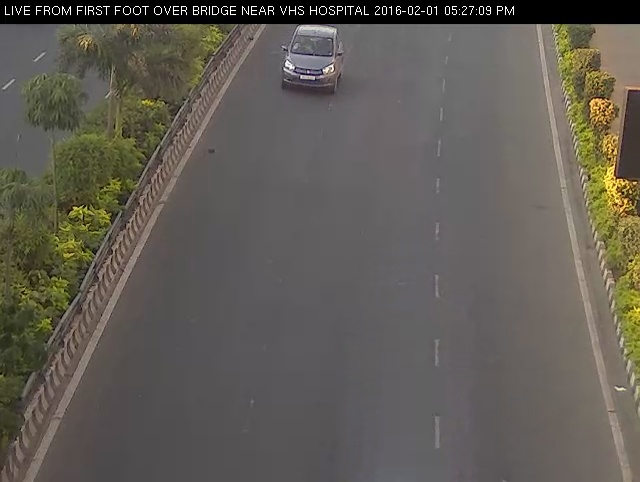Car: (269, 18, 353, 101)
